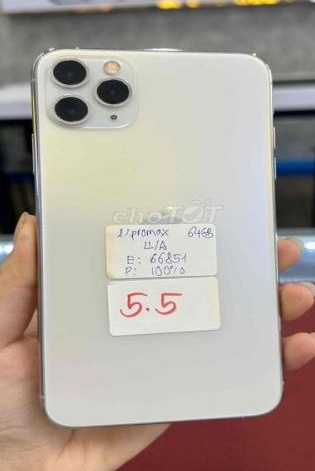scratch: (48, 53, 133, 125)
